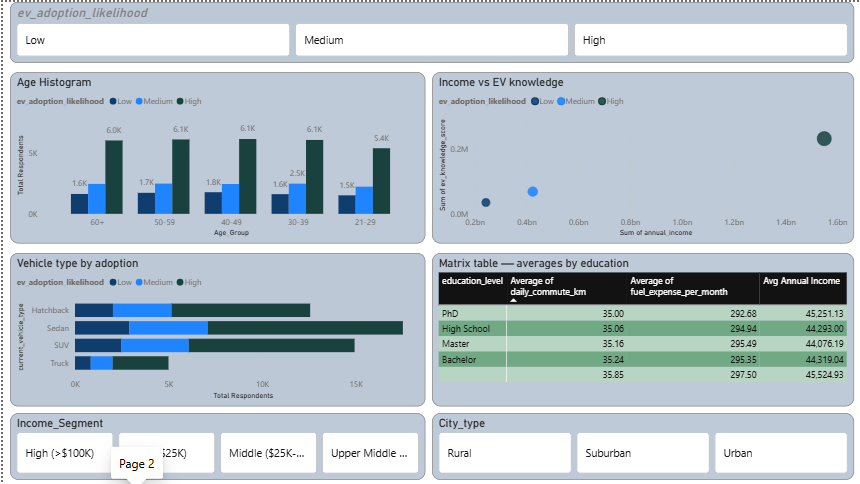

What the dashboard file says about the page in this screenshot:
{"tool":"powerbi","page":{"name":"Page 2","canvas":[1280,720],"ordinal":1},"visuals":[{"type":"clusteredColumnChart","title":"Age Histogram","fields":{"Category":["ev_adoption_cleaned(final).Age_Group"],"Y":["ev_adoption_cleaned(final).Total Respondents"],"Series":["ev_adoption_cleaned(final).ev_adoption_likelihood"]},"box":[10,104.3,620,255.7],"z":0},{"type":"scatterChart","title":"Income vs EV knowledge","fields":{"X":["Sum(ev_adoption_cleaned(final).annual_income)"],"Y":["Sum(ev_adoption_cleaned(final).ev_knowledge_score)"],"Series":["ev_adoption_cleaned(final).ev_adoption_likelihood"],"Size":["ev_adoption_cleaned(final).Total Respondents"]},"box":[640,104.3,630,255.7],"z":1000},{"type":"barChart","title":"Vehicle type by adoption","fields":{"Category":["ev_adoption_cleaned(final).current_vehicle_type"],"Y":["ev_adoption_cleaned(final).Total Respondents"],"Series":["ev_adoption_cleaned(final).ev_adoption_likelihood"]},"box":[10,374.3,620,228.6],"z":2000},{"type":"pivotTable","title":"Matrix table — averages by education","fields":{"Rows":["ev_adoption_cleaned(final).education_level"],"Values":["Avg(ev_adoption_cleaned(final).daily_commute_km)","Avg(ev_adoption_cleaned(final).fuel_expense_per_month)","ev_adoption_cleaned(final).Avg Annual Income"]},"box":[640,374.3,630,228.6],"z":3000},{"type":"advancedSlicerVisual","fields":{"Values":["ev_adoption_cleaned(final).ev_adoption_likelihood"]},"box":[10,0,1260,91.4],"z":4000},{"type":"advancedSlicerVisual","title":"City_type","fields":{"Values":["ev_adoption_cleaned(final).city_type"]},"box":[640,613.3,630,100],"z":5000},{"type":"advancedSlicerVisual","fields":{"Values":["ev_adoption_cleaned(final).Income_Segment"]},"box":[10,613.3,620,100],"z":6000}]}

Visuals, with their boxes in screenshot pixels (x1, y1, x2, y2):
"Age Histogram" clusteredColumnChart: bbox(16, 71, 426, 241)
"Income vs EV knowledge" scatterChart: bbox(433, 71, 850, 241)
"Vehicle type by adoption" barChart: bbox(16, 250, 426, 402)
"Matrix table — averages by education" pivotTable: bbox(433, 250, 850, 402)
advancedSlicerVisual - ev_adoption_cleaned(final).ev_adoption_likelihood: bbox(16, 2, 850, 63)
"City_type" advancedSlicerVisual: bbox(433, 409, 850, 475)
advancedSlicerVisual - ev_adoption_cleaned(final).Income_Segment: bbox(16, 409, 426, 475)
